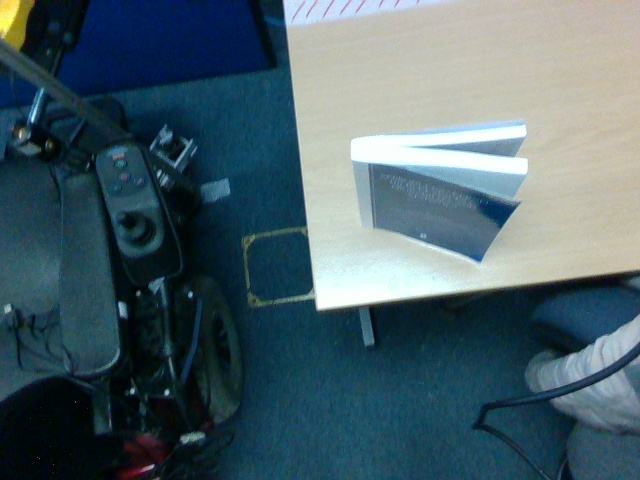book: (350, 121, 529, 261)
